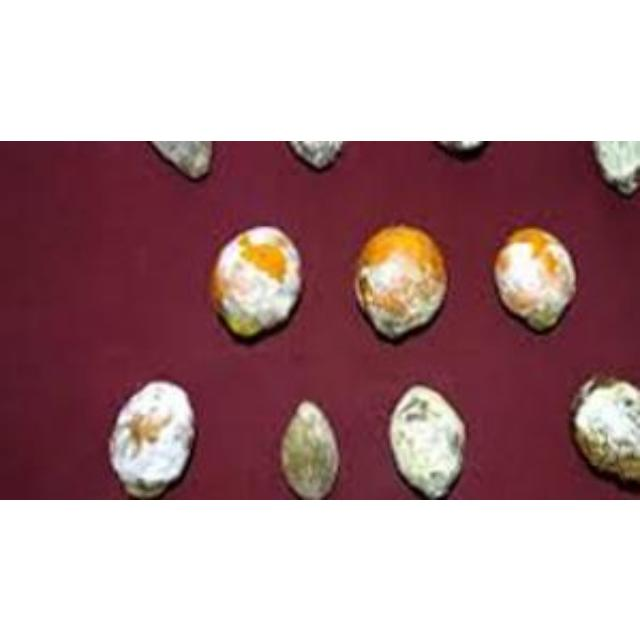damaged: (351, 223, 449, 345), (208, 226, 304, 345), (109, 382, 199, 497), (385, 382, 469, 497), (492, 226, 580, 335), (567, 373, 638, 493), (278, 401, 342, 497)
